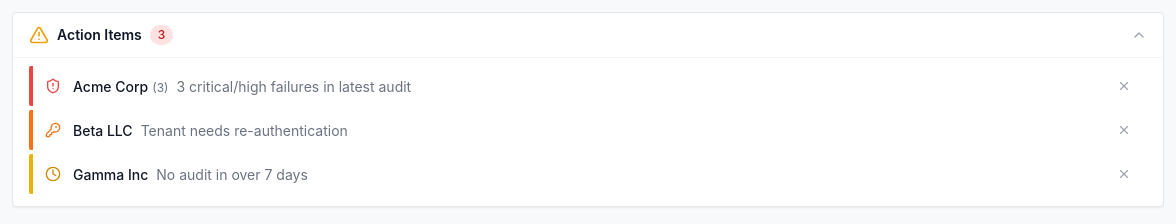
Test case: ActionQueue › collapsible panel starts expanded, click header collapses content
Expected: the text "Acme Corp" is shown, [73,78,148,95]
// Click header to collapse
Click the button with test id "action-queue-header".
click(99, 34)  # box [13,13,1163,57]
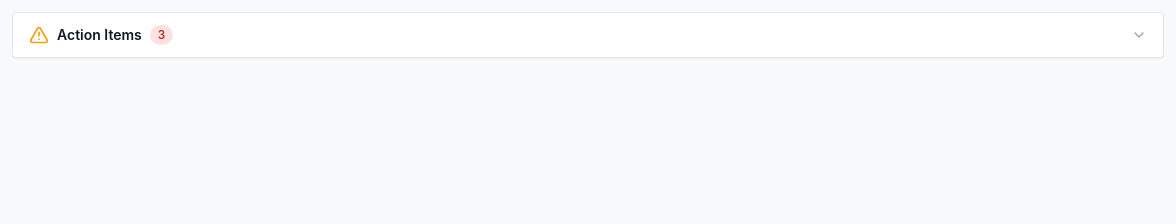
Result: the button "Acme Corp" is gone
